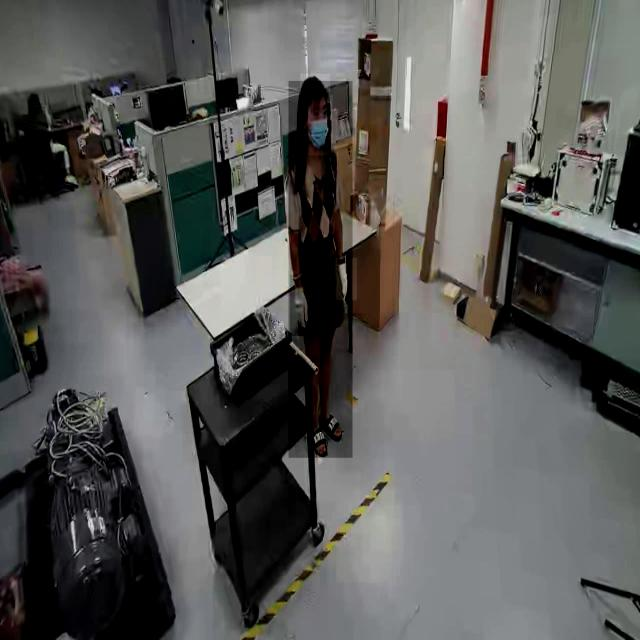face_mask: (308, 95, 332, 156)
hand_glove: (290, 275, 310, 337), (335, 258, 357, 301)
head_nohelmet: (300, 74, 330, 96)
person: (288, 81, 352, 459)
